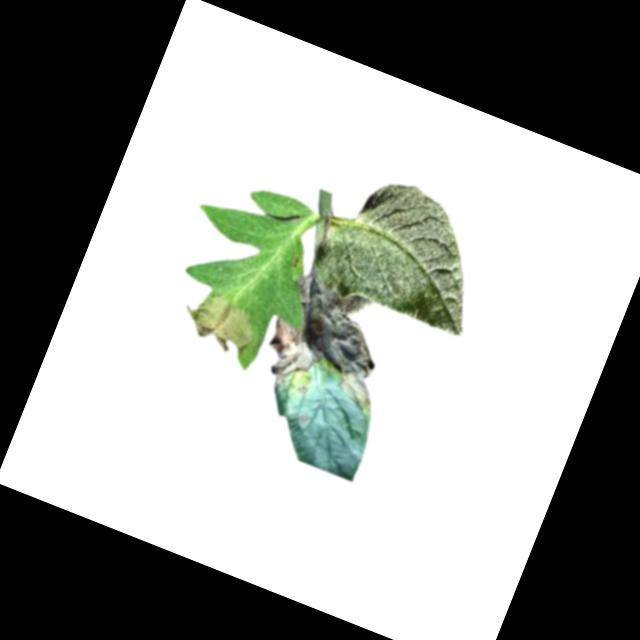Late_blight: (255, 270, 410, 424), (171, 280, 267, 363)
healthy: (302, 159, 508, 344)
